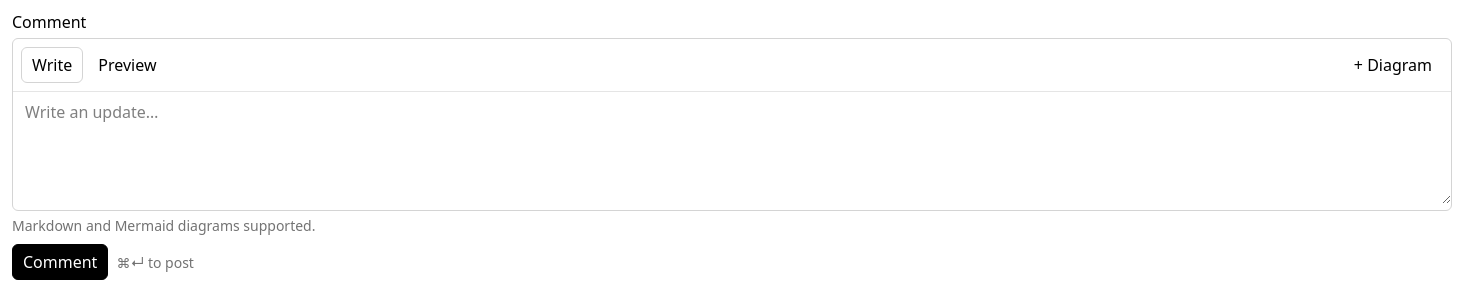
Test: CommentComposer › keeps the draft when submission fails, so nobody loses their writing
Type "A long update worth keeping" into the text box at coordinates (732, 148), box left=13, top=92, right=1451, bottom=204
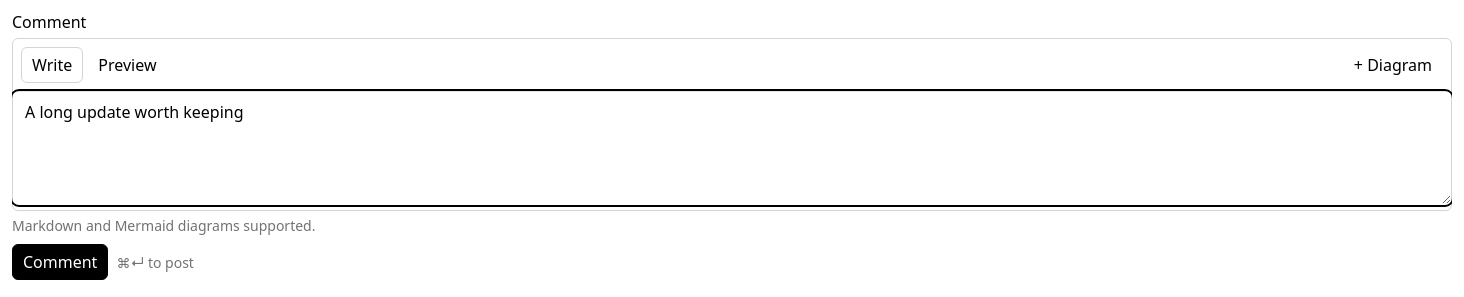
Click the button "Comment" at coordinates (60, 262), box left=12, top=244, right=108, bottom=280
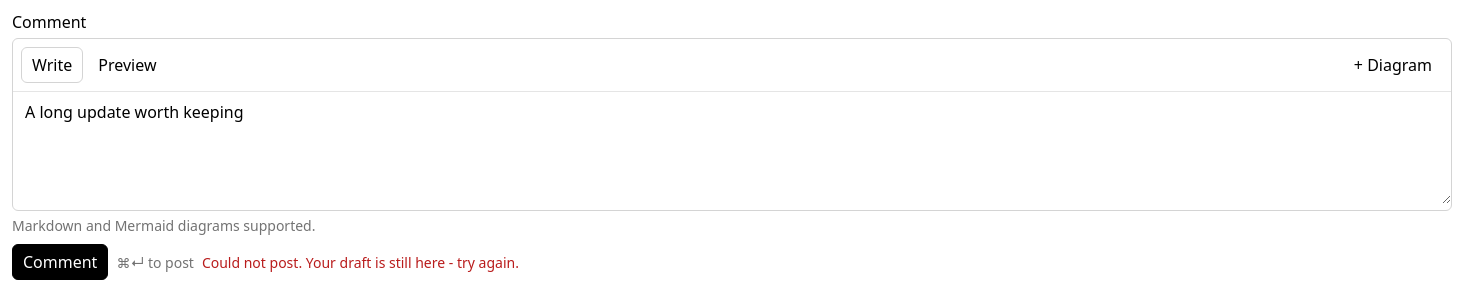
Check: the message shows "Could not post. Your draft is still here", box left=202, top=252, right=519, bottom=272
